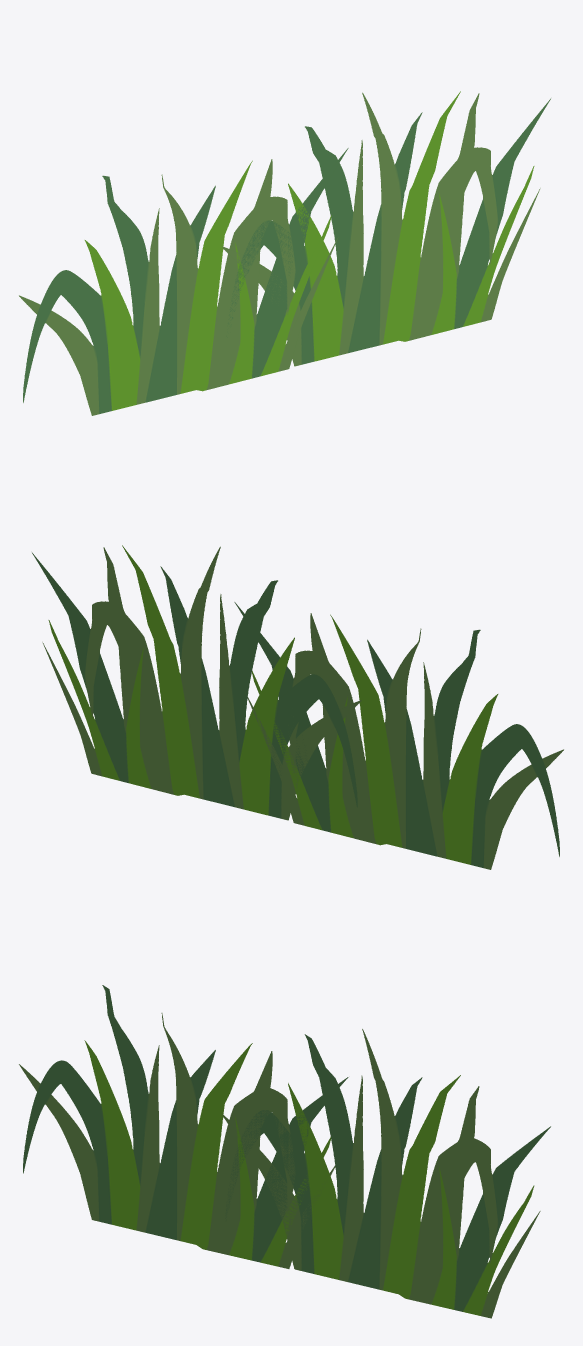
File: grass try.fbx
The picture shows the model from 3 angles, top to bottom: view 1: azimuth 30°, elevation 25°; view 2: azimuth 150°, elevation 25°; view 3: azimuth 330°, elevation 25°; orthographic projection.
Parts seen in each view (by area): view 1: pPlane1, pPlane2; view 2: pPlane2, pPlane1; view 3: pPlane2, pPlane1.
Part boxes in pixels (<box>): pPlane1: <box>19,148,348,415</box>; pPlane2: <box>222,91,550,366</box>; pPlane2: <box>32,545,361,820</box>; pPlane1: <box>234,602,563,869</box>; pPlane2: <box>222,1029,550,1318</box>; pPlane1: <box>19,985,348,1268</box>.
Bounding box in the file's own units: 11.06 × 5.85 × 3.58e-16.
